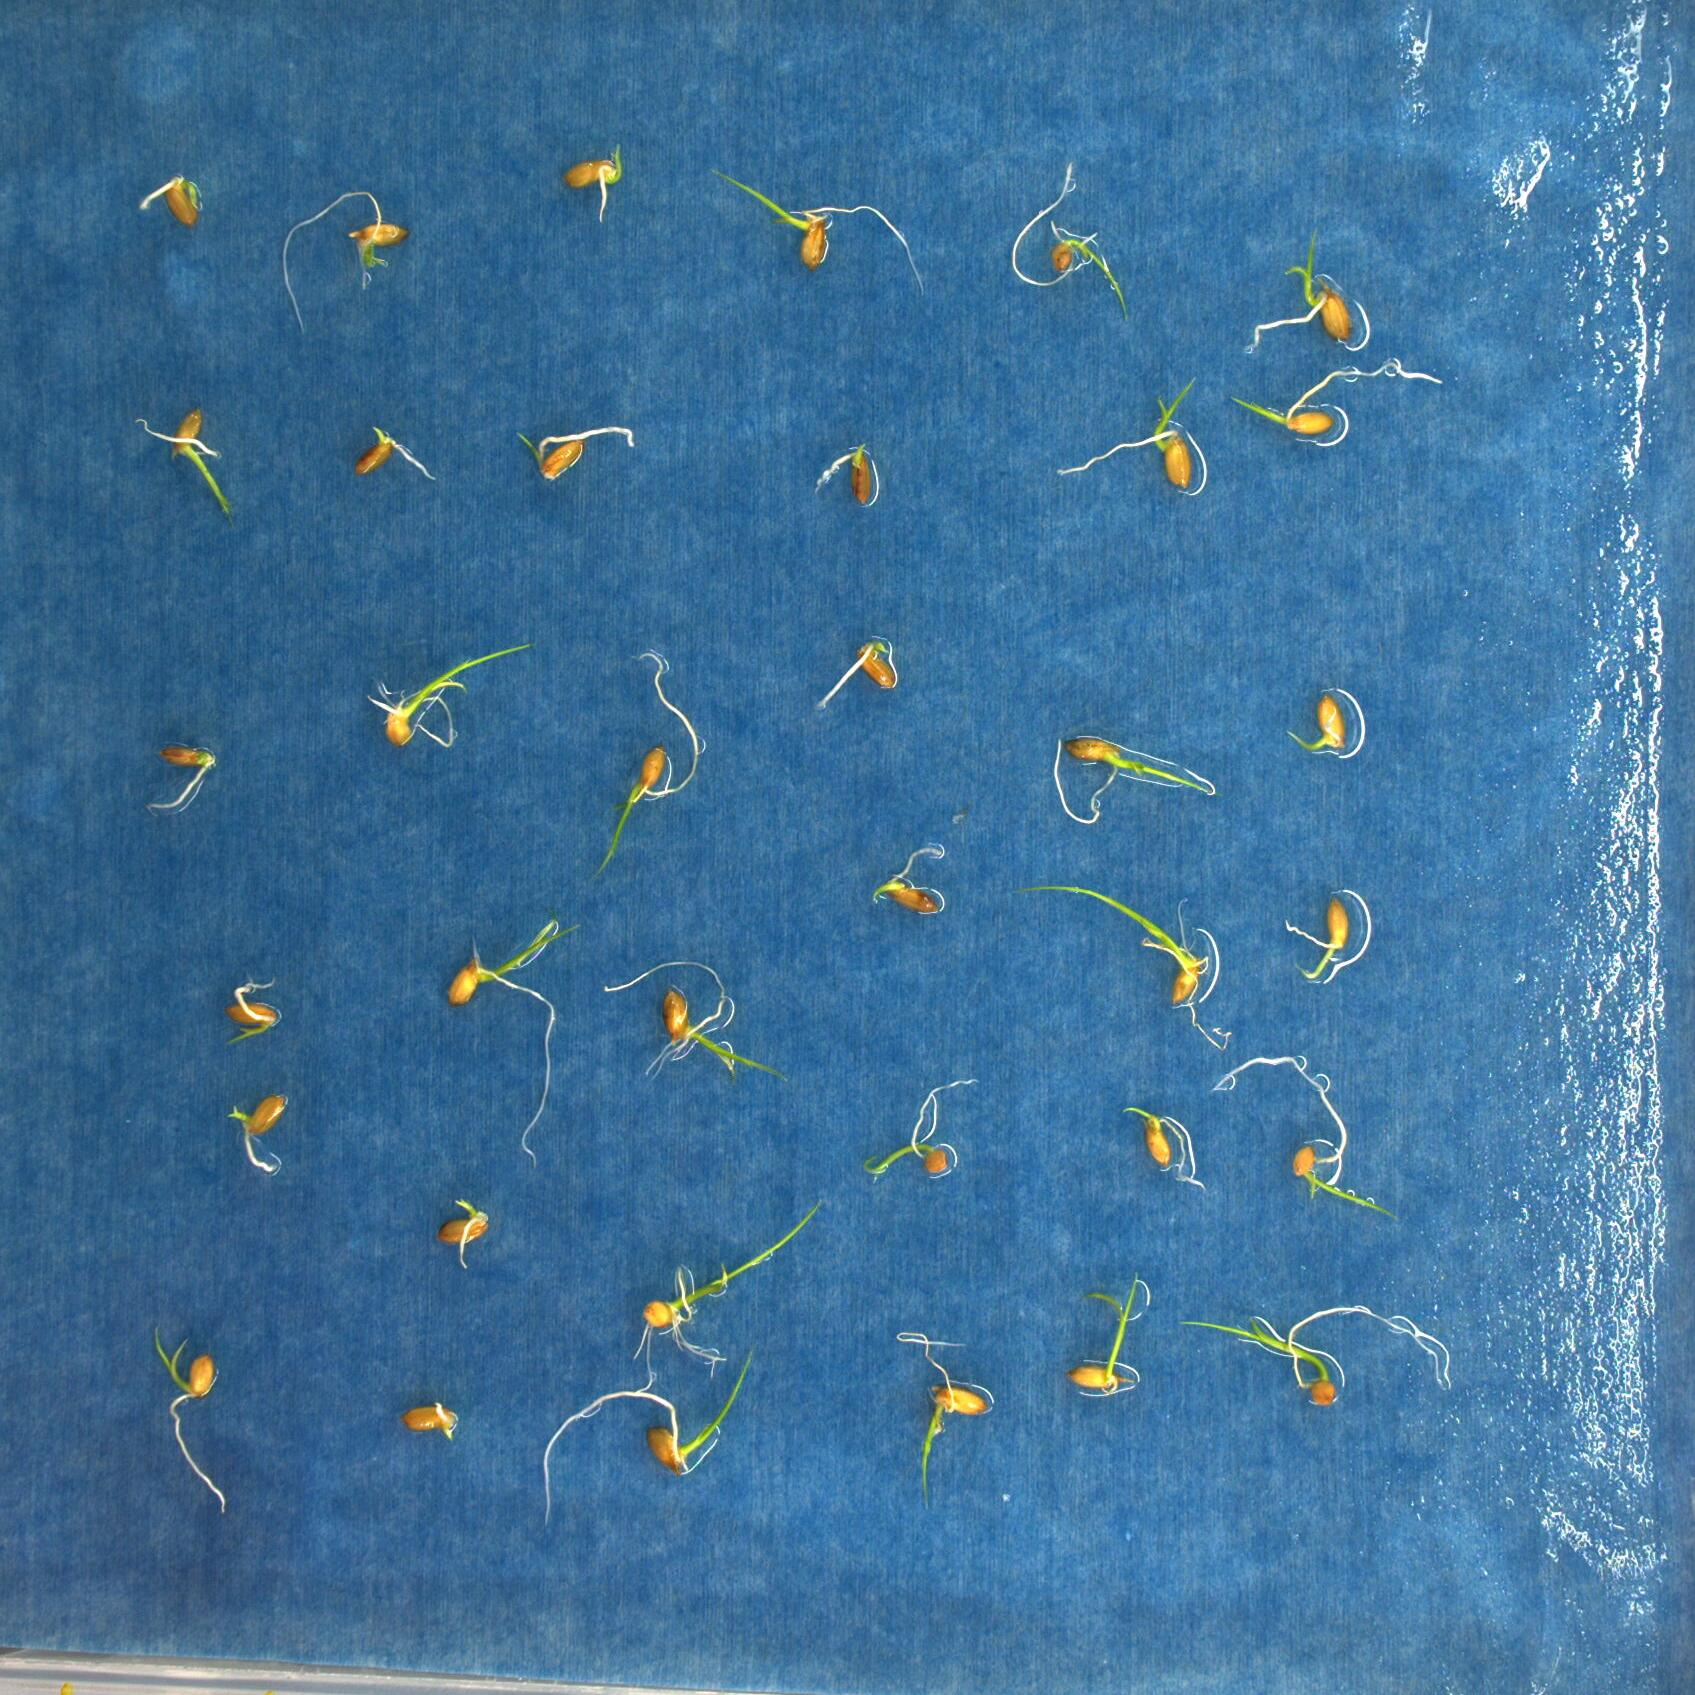not sprout: (872, 844, 948, 919), (227, 1091, 292, 1177), (816, 636, 896, 706), (144, 745, 219, 813), (357, 427, 435, 481), (815, 442, 879, 508), (399, 1403, 464, 1437)
sprout: (542, 1344, 761, 1529), (632, 1197, 826, 1392), (1017, 883, 1228, 1052), (445, 920, 581, 1169), (712, 168, 925, 300), (585, 649, 700, 893), (1181, 1309, 1444, 1409), (605, 959, 789, 1080), (1010, 157, 1132, 321), (366, 640, 536, 751), (279, 189, 407, 335), (1229, 357, 1444, 439), (896, 1327, 989, 1512), (1052, 731, 1212, 827), (1063, 376, 1197, 490), (1291, 1087, 1402, 1225), (154, 1326, 230, 1515), (861, 1077, 979, 1187), (1251, 224, 1349, 349), (137, 408, 236, 517), (1065, 1270, 1139, 1397), (1125, 1105, 1209, 1195), (515, 427, 636, 481), (1284, 896, 1350, 984), (563, 143, 626, 220), (224, 976, 279, 1048), (1287, 692, 1347, 756), (140, 172, 203, 231), (436, 1197, 489, 1263)
